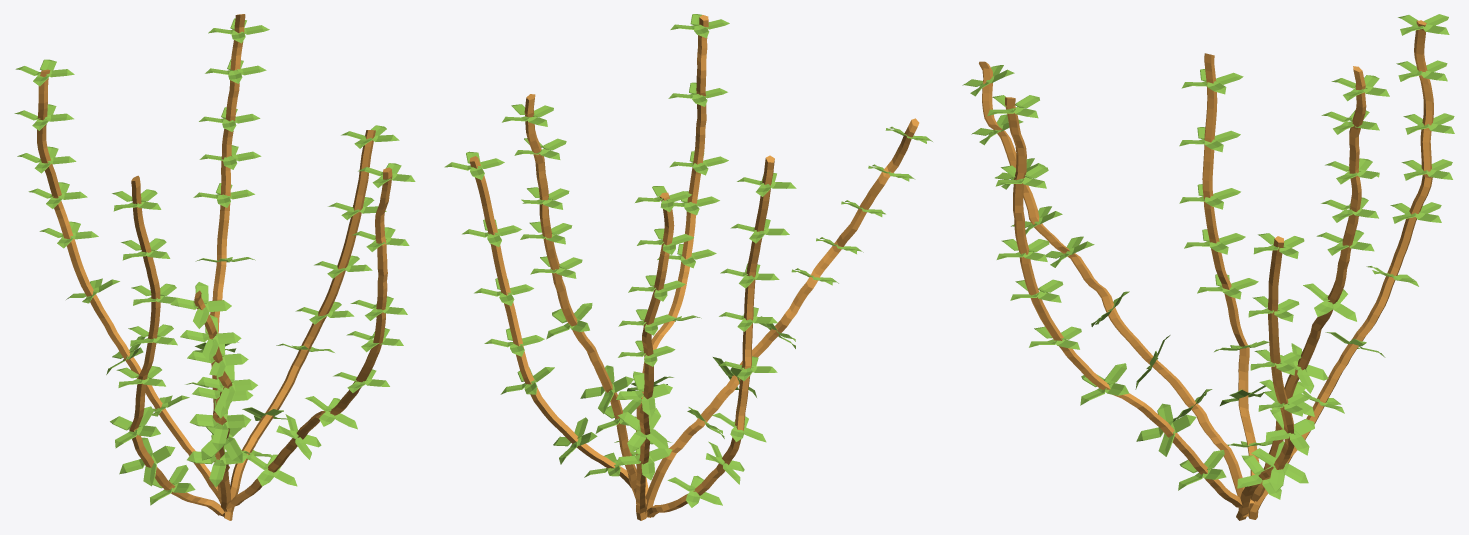
File: thyme.fbx
3 renders of one model, left to right at view 1: azimuth 30°, elevation 25°; view 2: azimuth 150°, elevation 25°; view 3: azimuth 270°, elevation 25°, orthographic. The views are drawn at different scales.
Visible parts, largest first — view 1: group920658786; view 2: group920658786; view 3: group920658786.
Part boxes in pixels (x1,y1,x2,y2): group920658786: (14, 14, 415, 520); group920658786: (444, 14, 932, 520); group920658786: (962, 14, 1454, 520).
Size of the model in its own units: 79.27 by 97.26 by 89.24.
